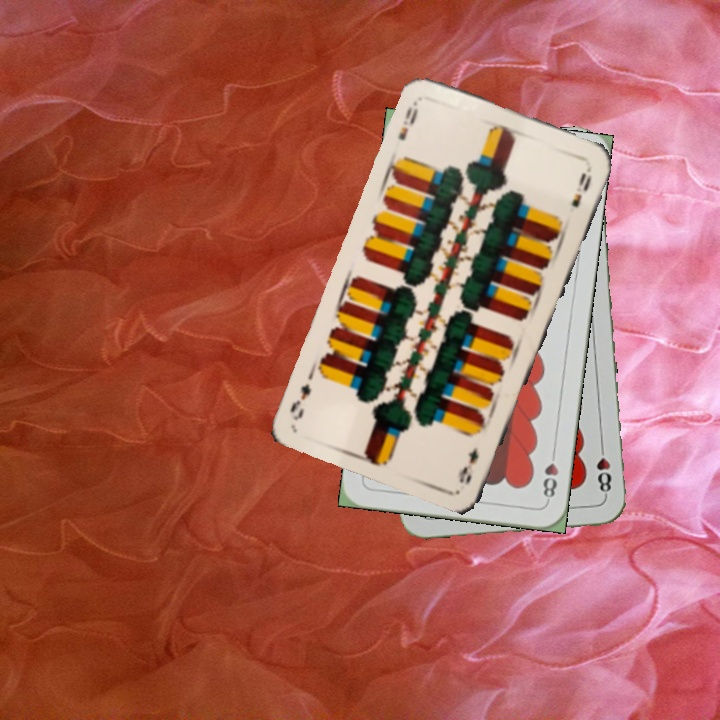E9: (394, 96, 423, 143), (455, 442, 482, 487)
H8: (539, 445, 561, 505), (592, 440, 614, 499)
